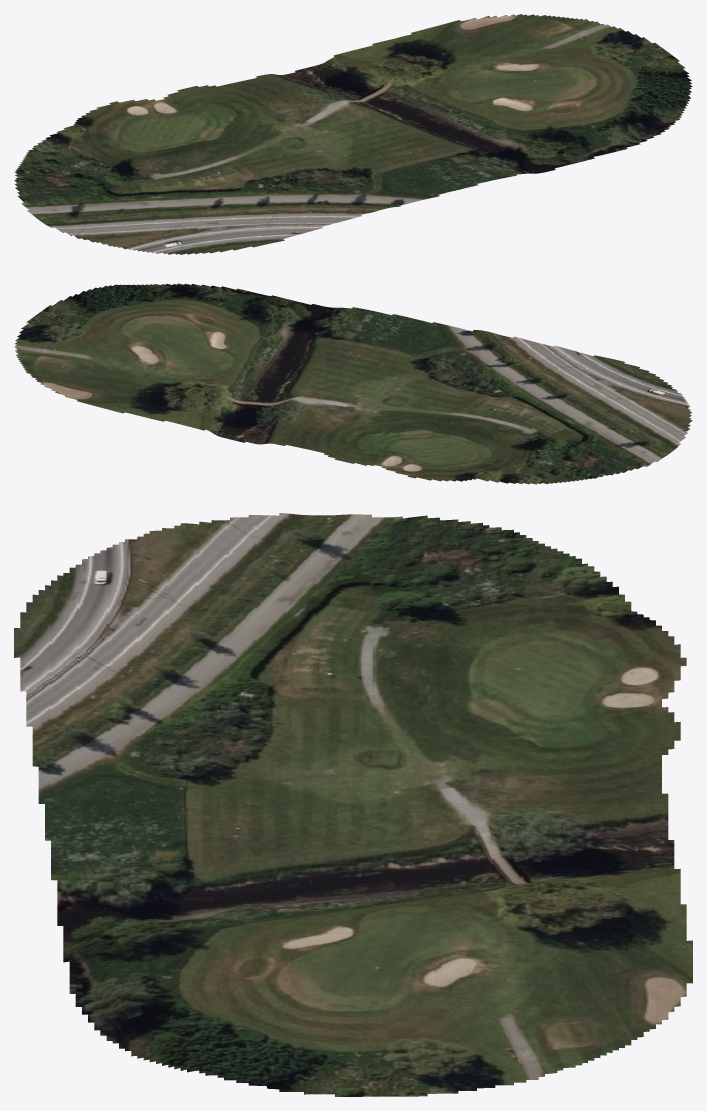
The model's file is yellow_4.glb.
The picture shows the model from 3 angles, top to bottom: view 1: azimuth 30°, elevation 25°; view 2: azimuth 150°, elevation 25°; view 3: azimuth 270°, elevation 25°; orthographic projection. The views are drawn at different scales.
Parts seen in each view (by area): view 1: ground; view 2: ground; view 3: ground.
Part boxes in pixels (<box>): ground: <box>14,14,692,254</box>; ground: <box>14,283,692,484</box>; ground: <box>14,513,692,1096</box>.
Size of the model in its own units: 223 by 3.62 by 110.
1 material, 1 textured.
